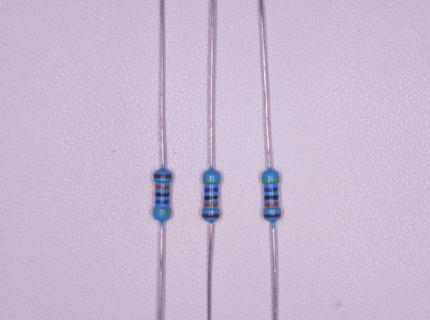Black band: (155, 192, 169, 197), (204, 196, 218, 201), (264, 195, 278, 200)
Brown band: (153, 174, 172, 179), (202, 213, 220, 218), (263, 213, 281, 218)
Orange band: (265, 201, 279, 208), (155, 184, 170, 189), (204, 203, 218, 207)
Violet band: (264, 187, 279, 192), (205, 188, 218, 193), (155, 200, 169, 204)
Yellow band: (153, 209, 171, 214), (263, 178, 280, 183), (203, 178, 220, 182)
